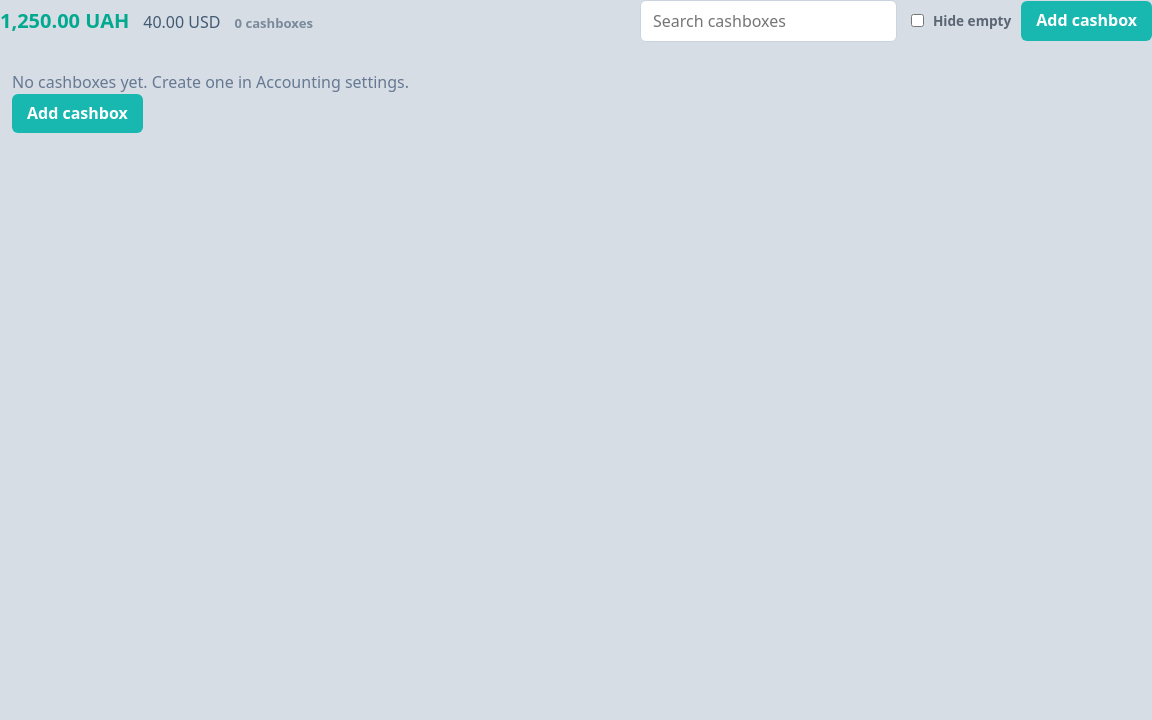
Scenario: AccountingCashboxesView › shows an empty state when there are no cashboxes
Expected: the text "No cashboxes yet. Create one in Accounting settings." is shown, [12, 71, 409, 93]
Click the button "Add cashbox" next to "Hide empty".
click(1087, 21)  # box [1021, 1, 1151, 41]
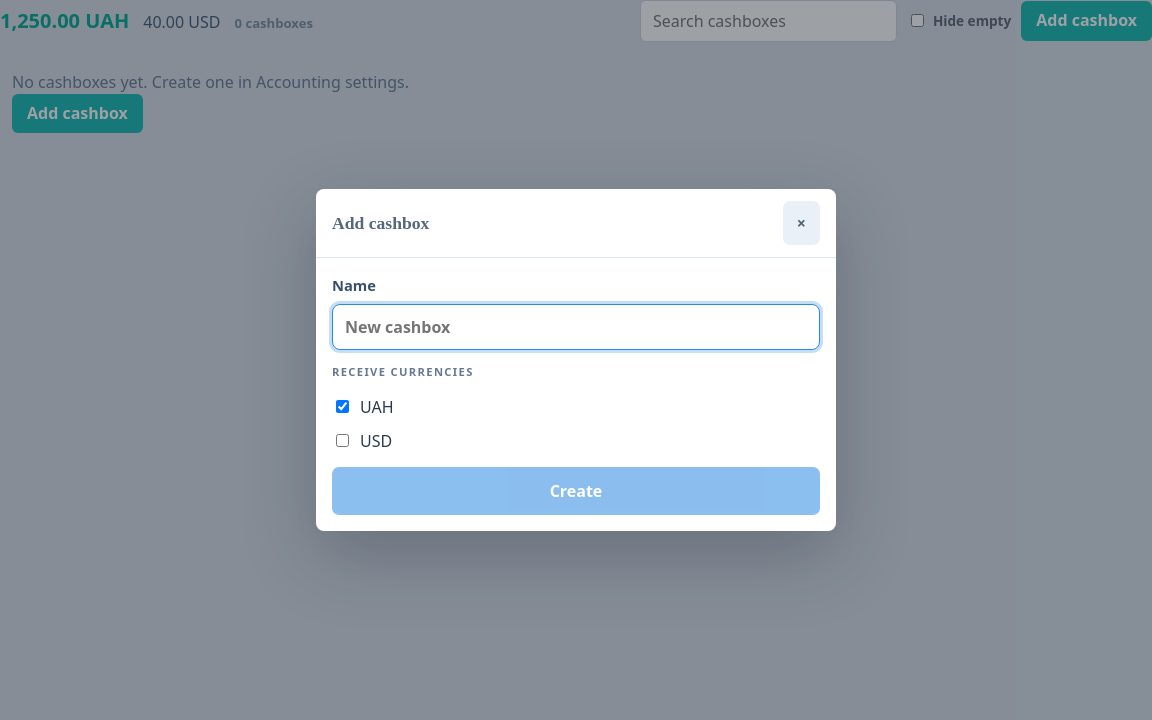
Now the field with placeholder "New cashbox" is shown, box [332, 304, 820, 350]
